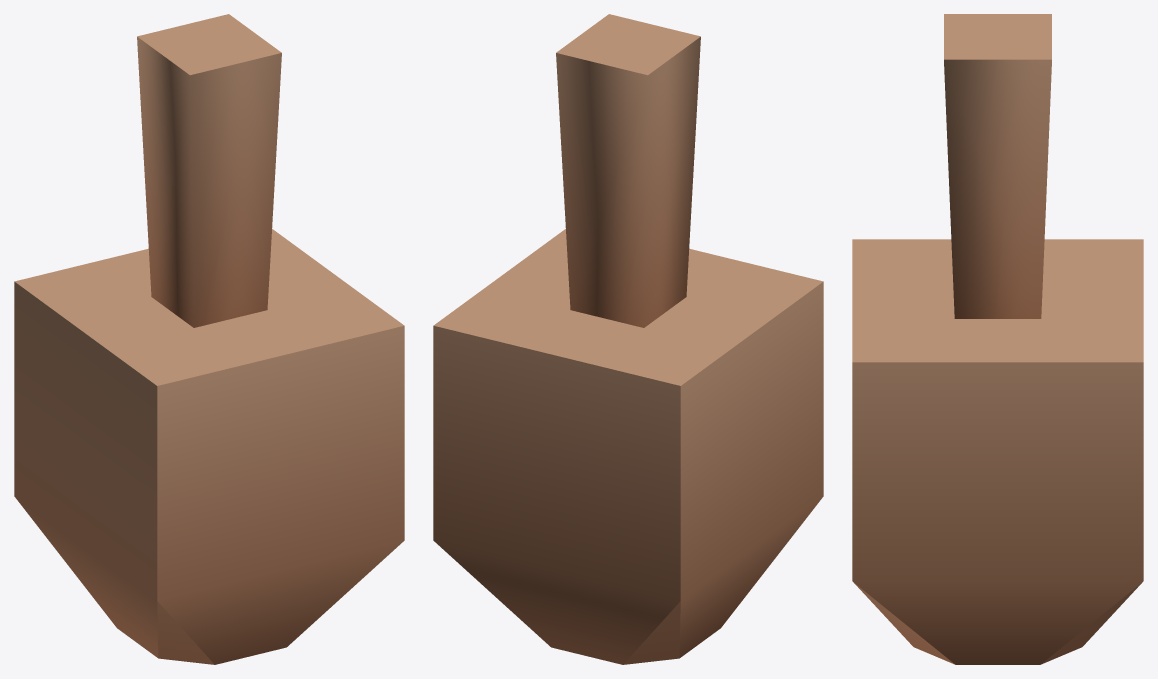
Rendered from hanukkah-dreidel.glb.
3 renders of one model, left to right at view 1: azimuth 30°, elevation 25°; view 2: azimuth 150°, elevation 25°; view 3: azimuth 270°, elevation 25°, orthographic.
Parts seen in each view (by area): view 1: hanukkah-dreidel; view 2: hanukkah-dreidel; view 3: hanukkah-dreidel.
Boxes of the visible parts, box(x1,y1,x2,y2) form: hanukkah-dreidel: box(14, 14, 404, 664); hanukkah-dreidel: box(433, 14, 823, 664); hanukkah-dreidel: box(852, 14, 1143, 664).
Size of the model in its own units: 0.1606 by 0.3604 by 0.1606.
